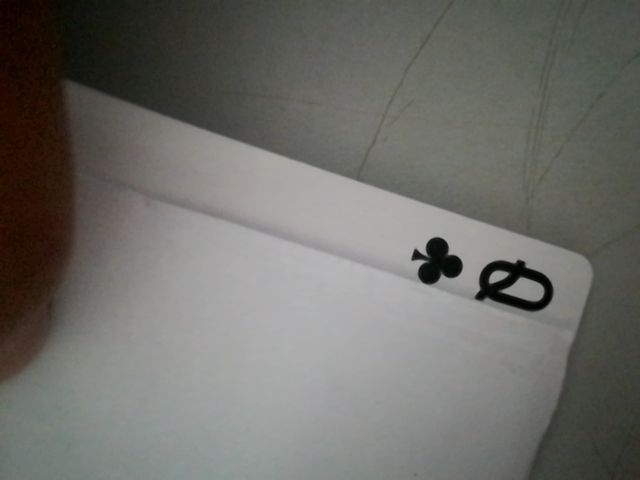mh q: (396, 229, 575, 320)
